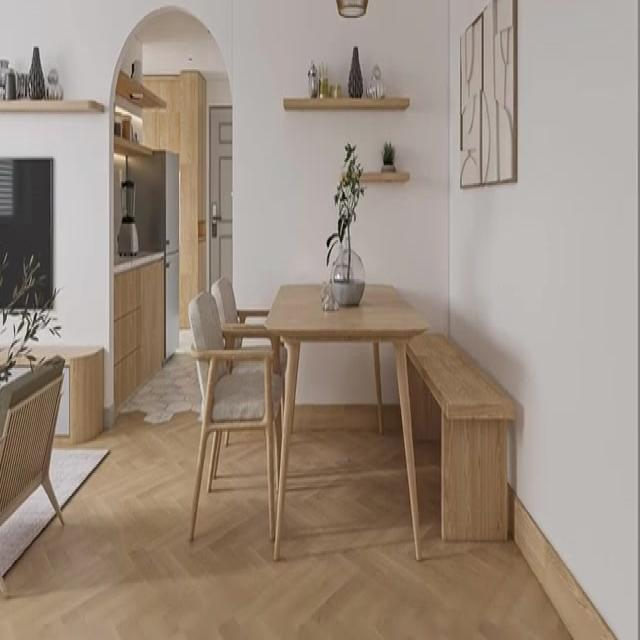door: (208, 103, 232, 293)
obstacle: (262, 281, 428, 562), (188, 293, 276, 550), (126, 149, 180, 364)
